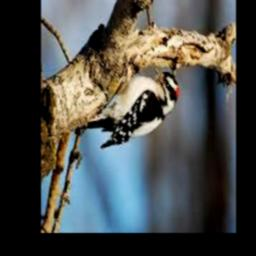Woodpecker: (75, 66, 178, 148)
